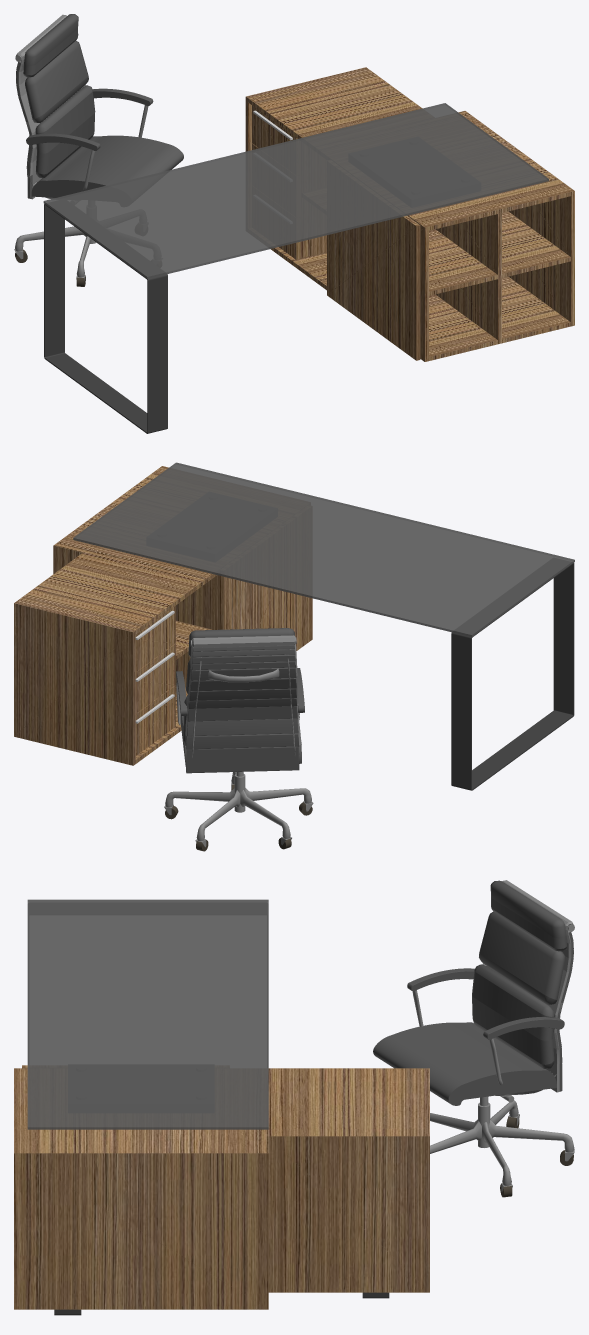
Rendered from desk-200-drawers-left.glb.
3 renders of one model, top to bottom at view 1: azimuth 30°, elevation 25°; view 2: azimuth 150°, elevation 25°; view 3: azimuth 270°, elevation 25°, orthographic. The views are drawn at different scales.
Parts seen in each view (by area): view 1: Geom3D (×3), Geom3D_ (×2); view 2: Geom3D (×4), Geom3D_ (×2); view 3: Geom3D (×2), Geom3D_ (×2).
Part boxes in pixels (bbox=[...]): Geom3D (×3): bbox=[43, 67, 574, 433]; Geom3D_ (×2): bbox=[14, 14, 183, 282]; Geom3D (×4): bbox=[14, 462, 574, 790]; Geom3D_ (×2): bbox=[164, 628, 313, 847]; Geom3D (×2): bbox=[14, 899, 429, 1309]; Geom3D_ (×2): bbox=[373, 880, 574, 1191].
Size of the model in its own units: 2.1 by 1.03 by 2.08.
Materials: 8 (1 with a texture image).
